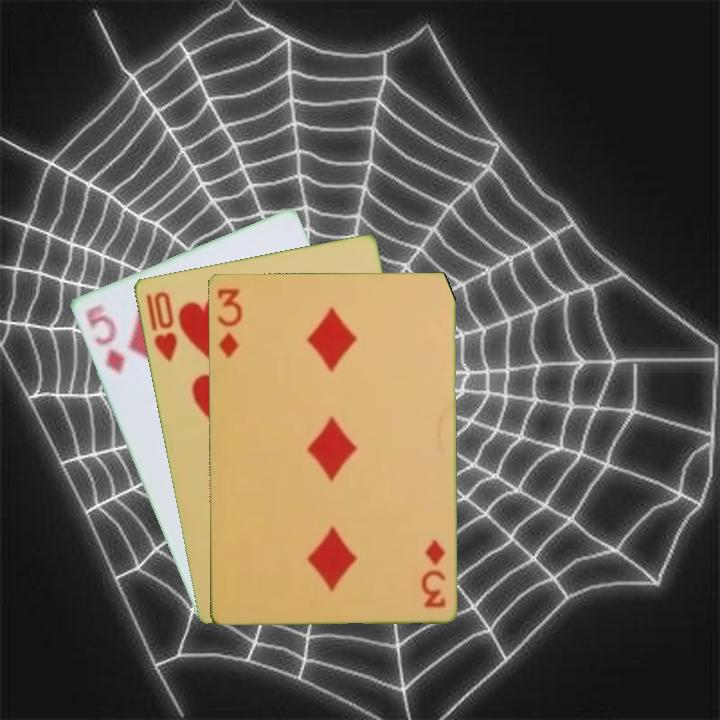10h: (142, 287, 180, 365)
3d: (213, 284, 245, 360), (418, 536, 448, 610)
5d: (81, 300, 127, 378)
